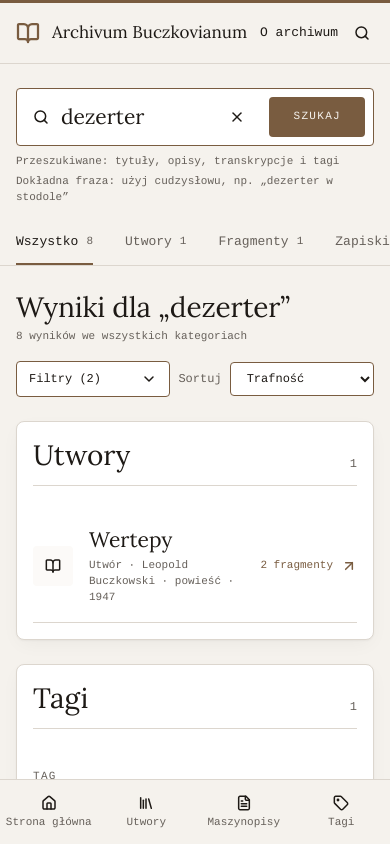
Test: SearchPage tabs and filters › US-RA-16 AC3: 'Filtry (n)' opens the filters in a full-screen panel
Click the button "Filtry (2)".
click(93, 379)  # box [16,361,170,397]
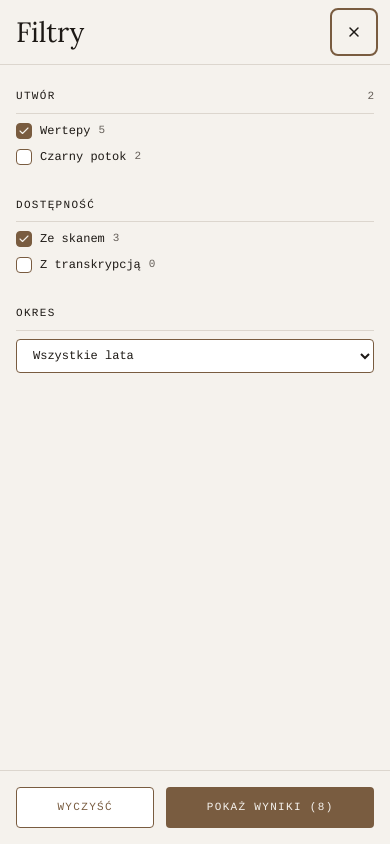
Now the heading "Filtry" is shown, box [16,14,84,50]
Now the checkbox labelled "Wertepy 5" is checked, box [16,123,32,139]
Now the checkbox labelled "Ze skanem 3" is checked, box [16,231,32,247]
